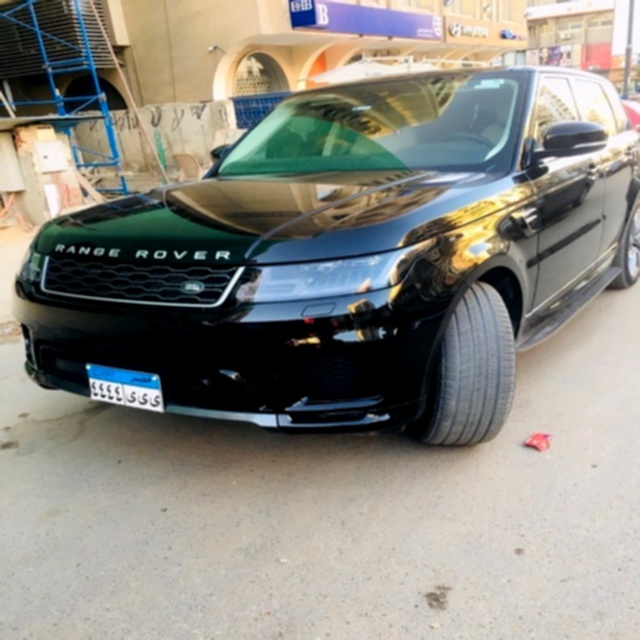License Plate: (85, 363, 165, 415)
